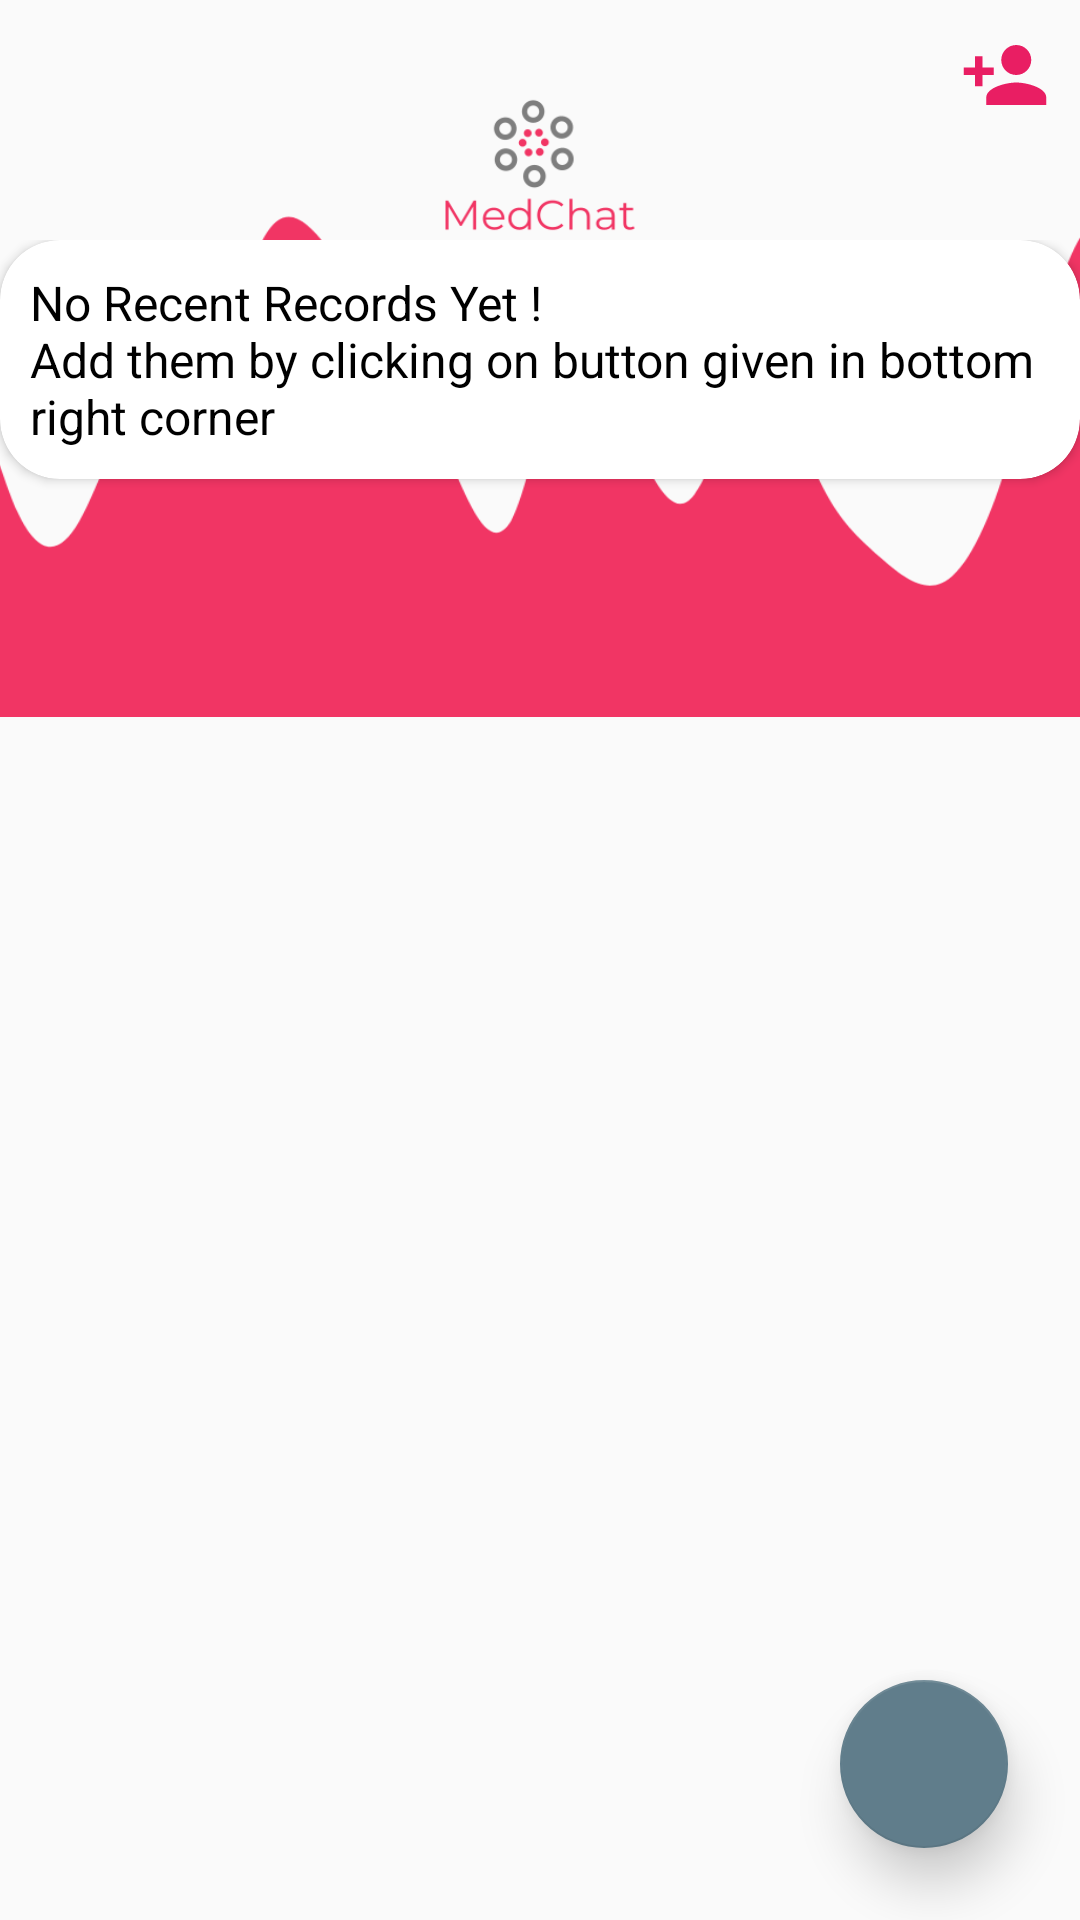

Named icons in this screenshot (1080px×1920px) and their bounding boxes, (x1, y1, x2, y2):
add patient: (963, 45, 1047, 105)
